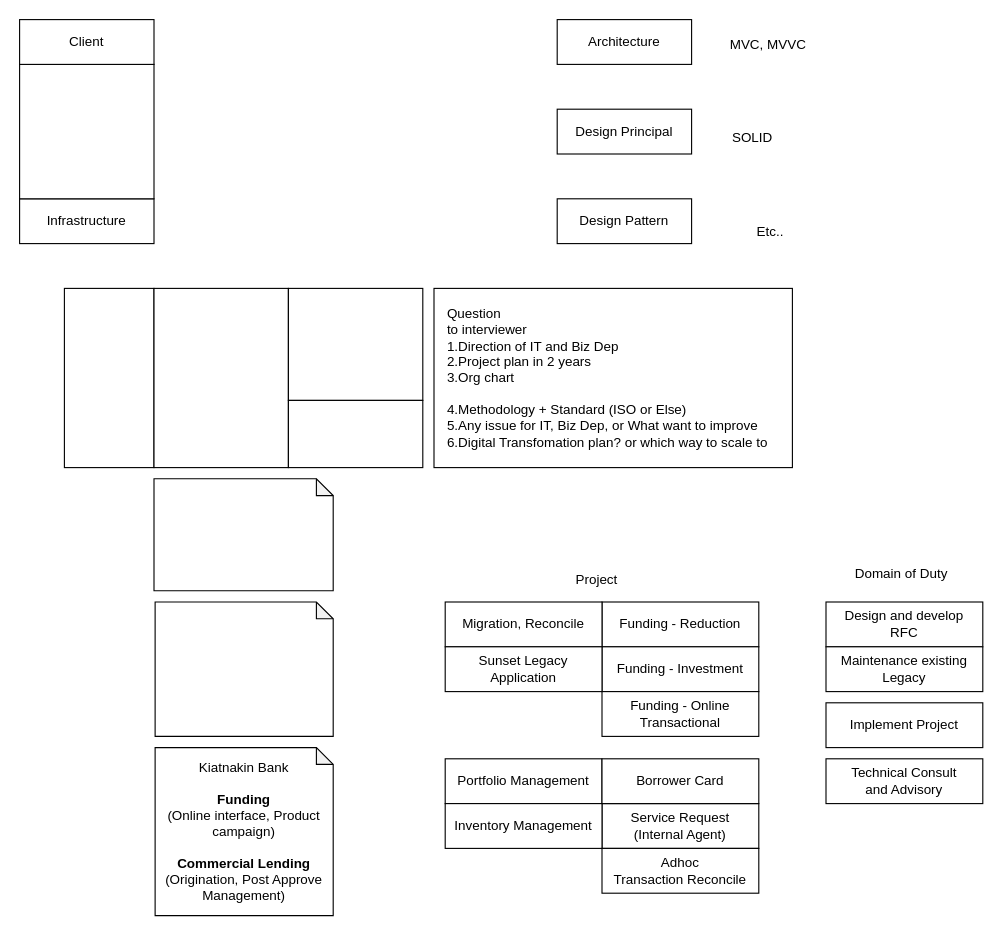
Some shapes in this 1002 by 935 pixel diagram are drawn without their labels. The shapes that lost their labels are listed below. From the top down, each one's centre as x and y in pixels, then its label:
the point at 86,131: Application Server
the point at 355,343: Current Project Info
the point at 108,377: Introduction Bio
the point at 220,377: Timeline Career
the point at 355,433: Duty as SA
the point at 243,534: Kiatnakin Bank 2 Years Hire Purchase Approval Online
the point at 243,668: Accenture Solution 3 Years Telecom DTAC, CELCOM Plant SCG
